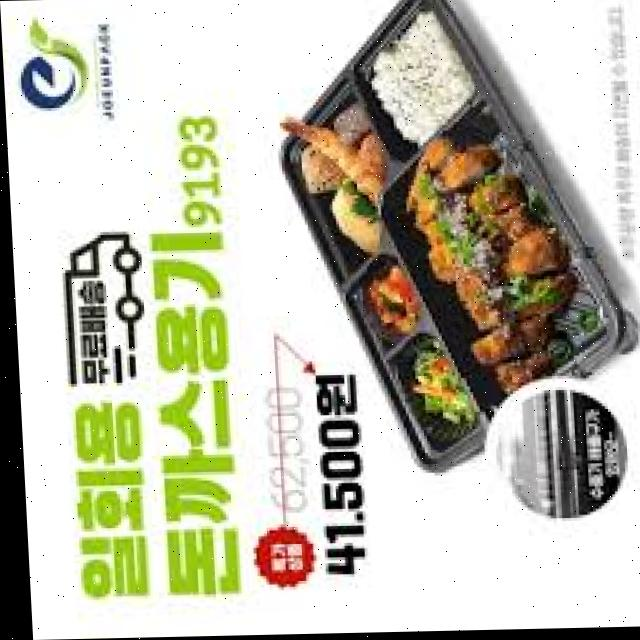disposable: (258, 0, 640, 494)
